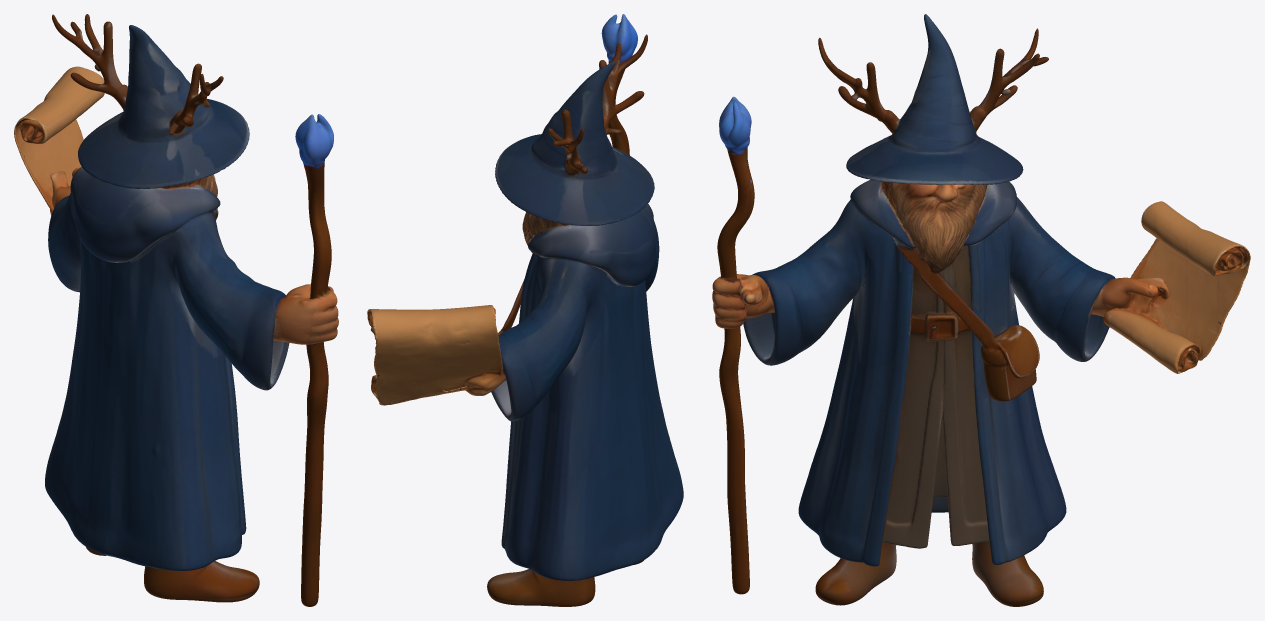
3 views of the same model, side by side, from view 1: azimuth 30°, elevation 25°; view 2: azimuth 150°, elevation 25°; view 3: azimuth 270°, elevation 25° (orthographic). The views are drawn at different scales.
Parts seen in each view (by area): view 1: tripo_node_b7e4d8dd-49a2-40c6-bb14-31aa6adef8b5; view 2: tripo_node_b7e4d8dd-49a2-40c6-bb14-31aa6adef8b5; view 3: tripo_node_b7e4d8dd-49a2-40c6-bb14-31aa6adef8b5.
Boxes of the visible parts, x1,y1,x2,y2 form: tripo_node_b7e4d8dd-49a2-40c6-bb14-31aa6adef8b5: (14,14,338,606); tripo_node_b7e4d8dd-49a2-40c6-bb14-31aa6adef8b5: (367,14,683,606); tripo_node_b7e4d8dd-49a2-40c6-bb14-31aa6adef8b5: (712,14,1250,606).
Bounding box in the file's own units: 0.3342 × 1 × 0.8812.
1 material, 1 textured.
